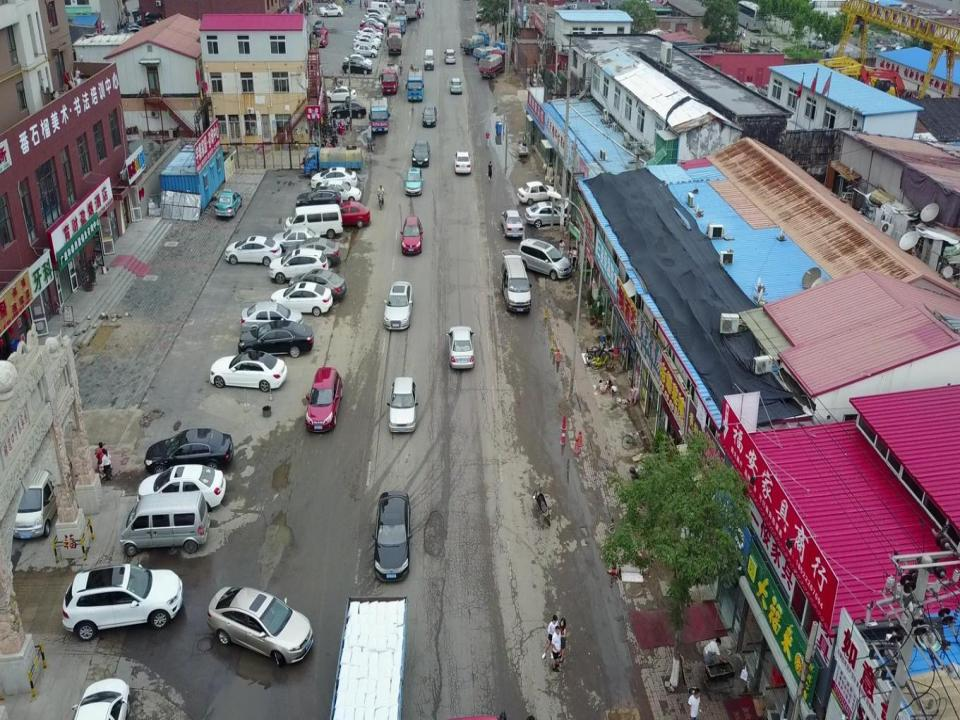car: (57, 563, 181, 638), (208, 588, 309, 668), (366, 490, 412, 582), (139, 429, 237, 469), (137, 466, 227, 506), (206, 347, 286, 391), (231, 318, 315, 358), (72, 678, 137, 720), (302, 365, 341, 430), (264, 280, 331, 317), (267, 246, 334, 283), (286, 267, 354, 303), (284, 236, 352, 272), (228, 235, 296, 271), (268, 245, 334, 282), (239, 296, 306, 332), (291, 184, 358, 220), (304, 159, 371, 195), (517, 238, 571, 278), (386, 375, 420, 433), (299, 179, 362, 209), (318, 198, 367, 232), (308, 163, 360, 195), (382, 279, 409, 336), (445, 326, 474, 376), (525, 200, 571, 230), (517, 179, 562, 209), (398, 218, 422, 262), (403, 162, 426, 197), (449, 144, 471, 180), (498, 210, 522, 243), (411, 141, 433, 176), (214, 185, 240, 214), (420, 106, 436, 126), (448, 74, 463, 94), (444, 48, 455, 65)
truck: (328, 590, 410, 720), (480, 47, 512, 84), (461, 29, 493, 66), (473, 37, 505, 73), (367, 92, 392, 136), (406, 68, 425, 100), (374, 69, 398, 93)
van: (120, 496, 213, 554), (14, 460, 56, 540), (497, 250, 532, 312), (282, 206, 342, 241), (422, 46, 436, 72)
